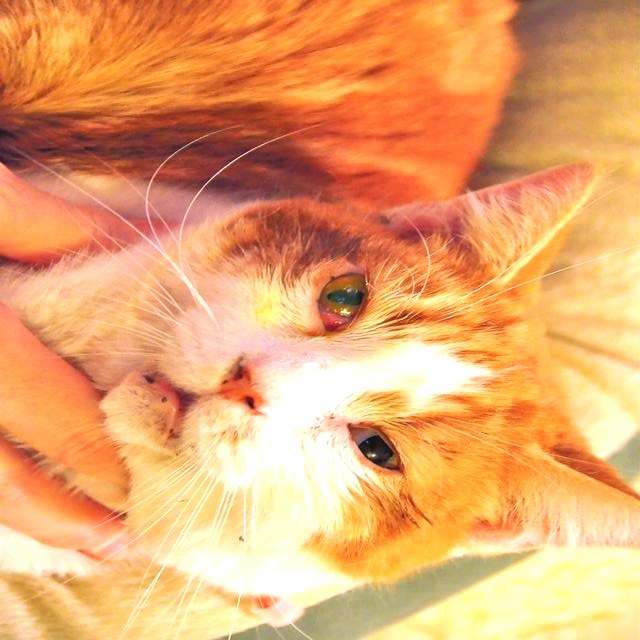eye_infection: (310, 269, 373, 337), (344, 417, 404, 472)
